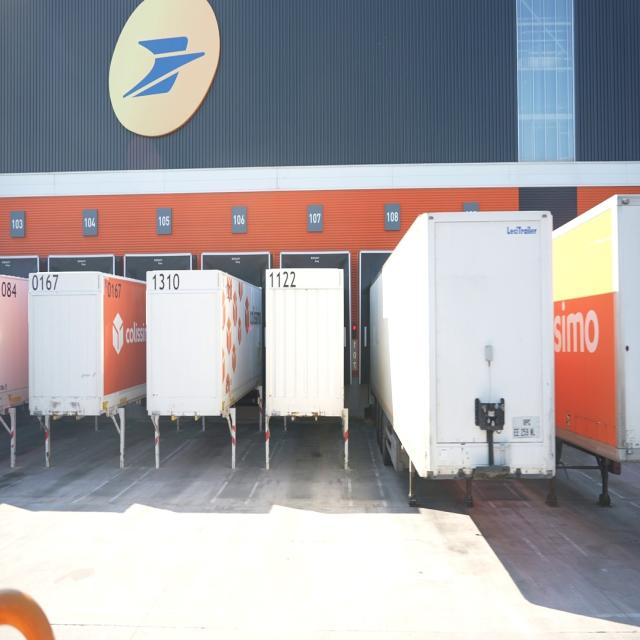Code: (150, 271, 181, 296), (29, 272, 60, 296), (266, 268, 298, 290), (104, 278, 125, 301)
